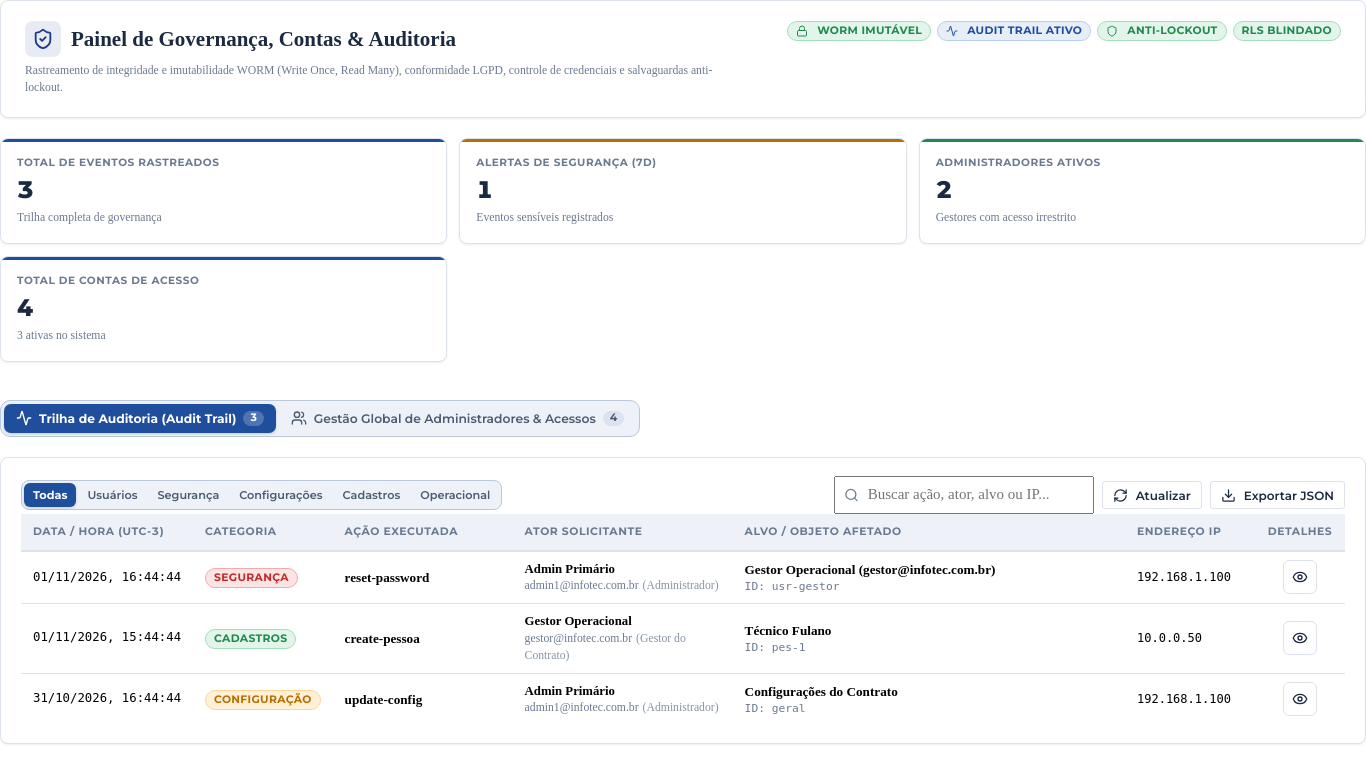
Test: AdminAuditView - Painel de Governança, Contas & Auditoria › 5. Permite buscar logs por texto (ação, ator ou IP)
Expected: the text "reset-password" is shown, top-left (333, 551), bottom-right (513, 604)
Type "create-pessoa" into the field with placeholder "Buscar ação, ator, alvo ou IP..." at (964, 495), box top-left (834, 476), bottom-right (1094, 514)
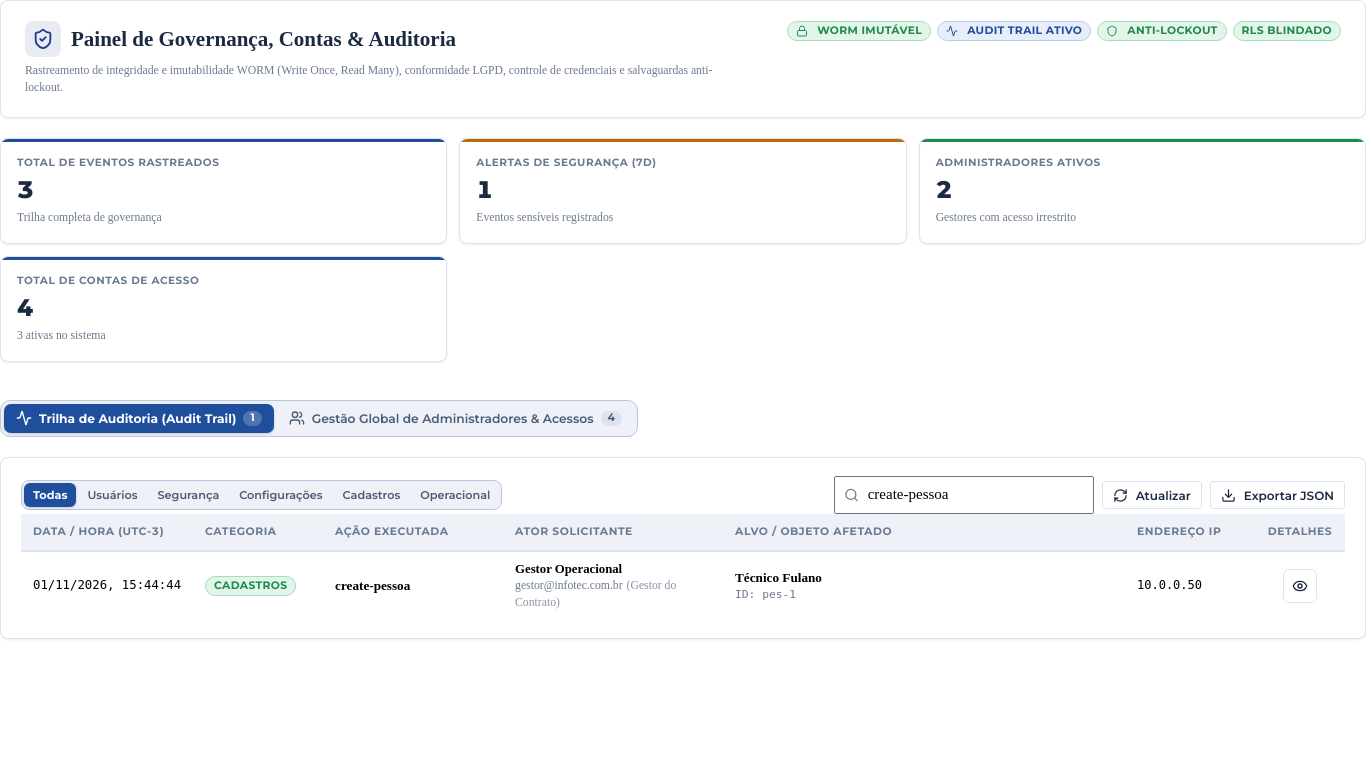
Expected: the text "create-pessoa" is shown, top-left (323, 551), bottom-right (503, 620)
Result: the text "update-config" is gone
